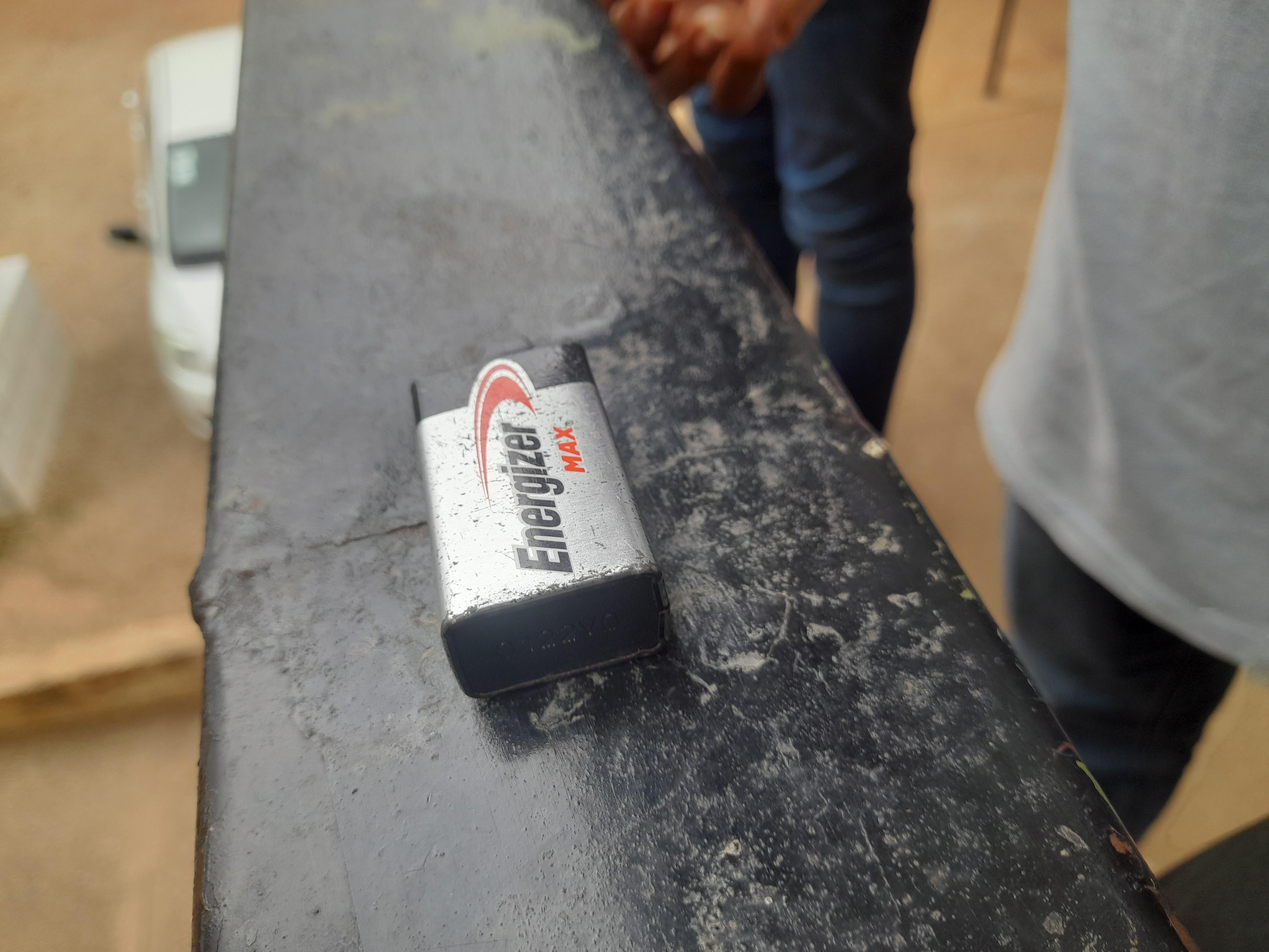9V: (384, 305, 699, 718)
